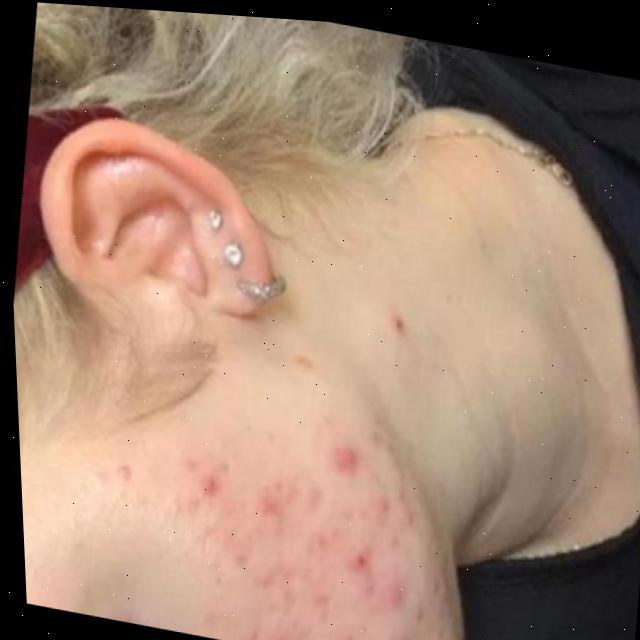Acne: (125, 348, 510, 640)
